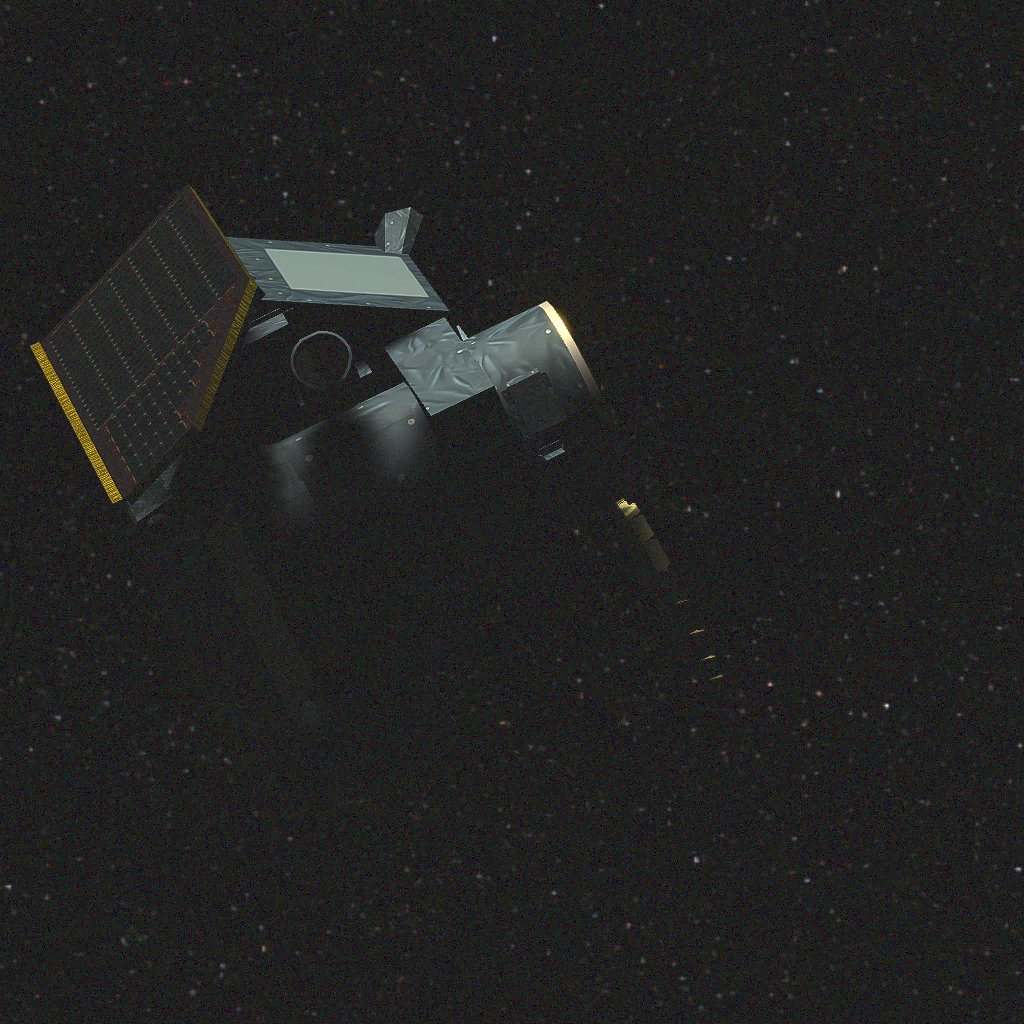cheops: (30, 184, 725, 824)
